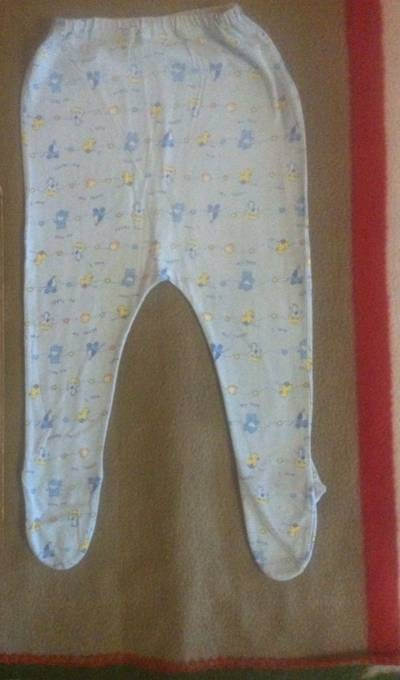Pants: (7, 18, 328, 580)
